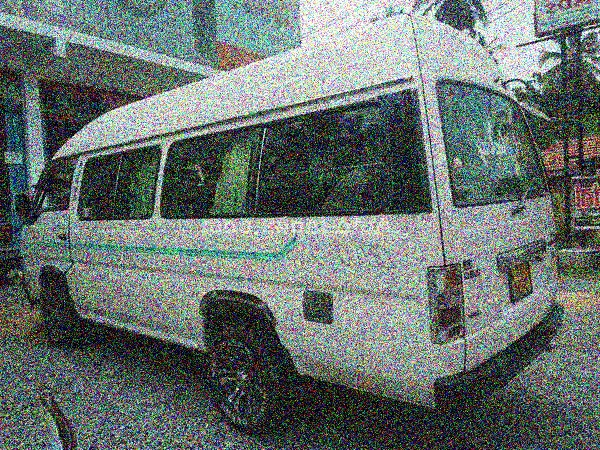van: (15, 14, 553, 411)
